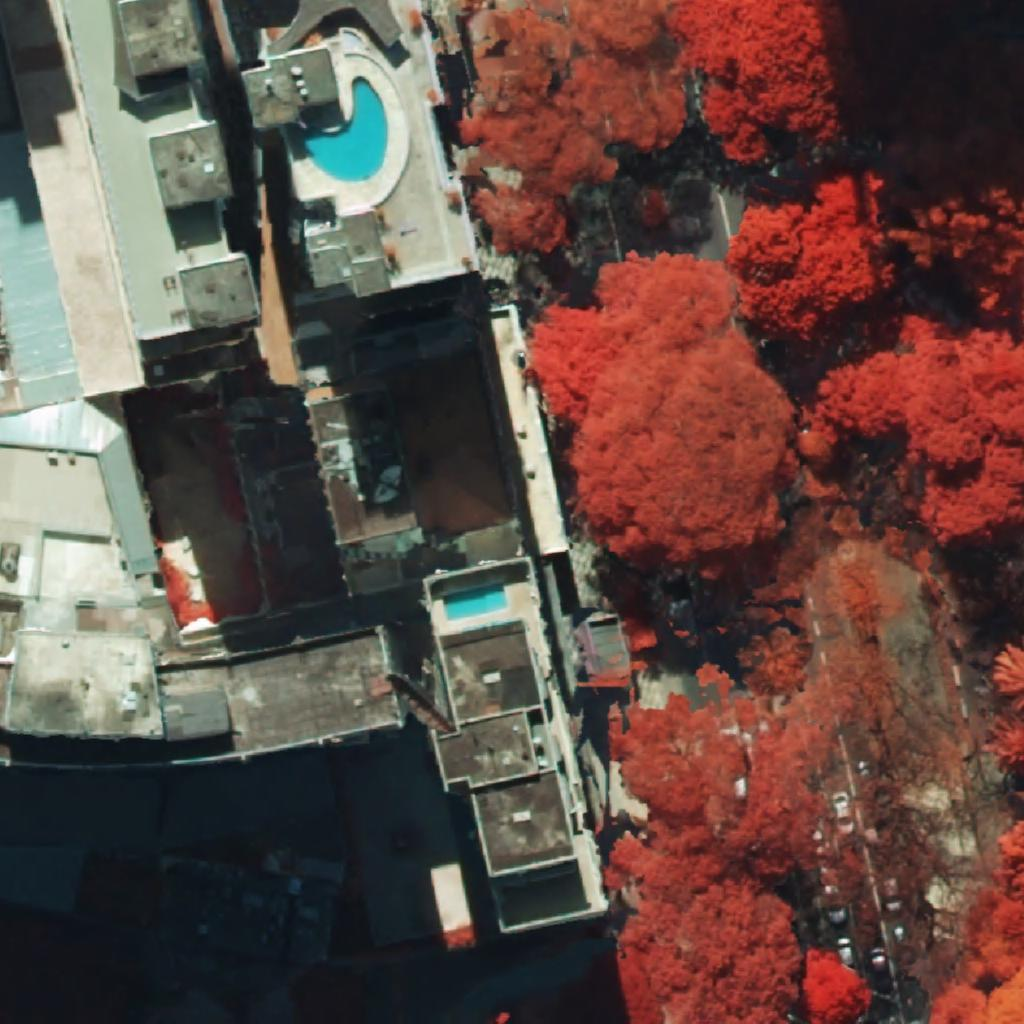pool: (303, 76, 388, 182), (444, 583, 507, 621)
